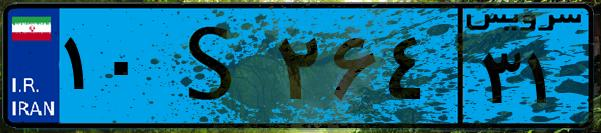0: (110, 28, 158, 98)
1: (57, 26, 110, 100), (525, 38, 570, 115)
2: (270, 28, 330, 110)
3: (475, 38, 525, 113)
4: (385, 28, 445, 110)
6: (330, 28, 385, 110)
S: (158, 12, 270, 120)
